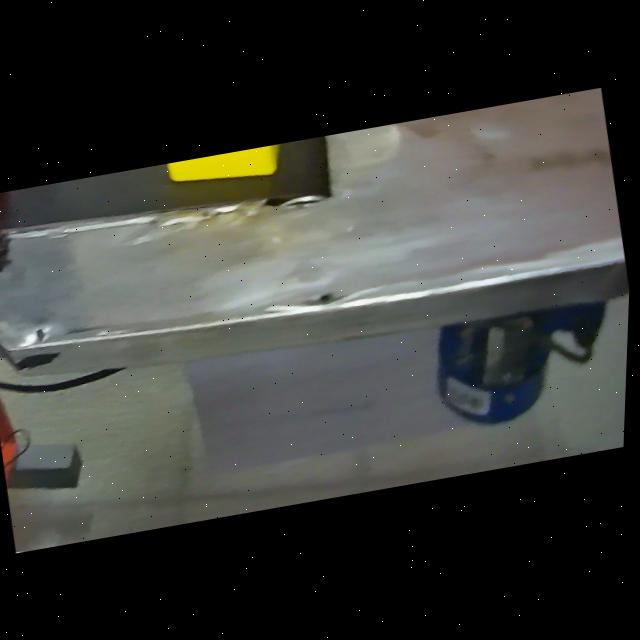redBox: (0, 191, 15, 226)
yellowBox: (162, 142, 299, 200)
